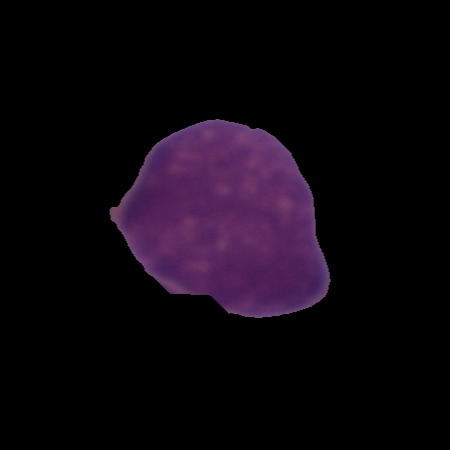HEM: (105, 114, 334, 322)
